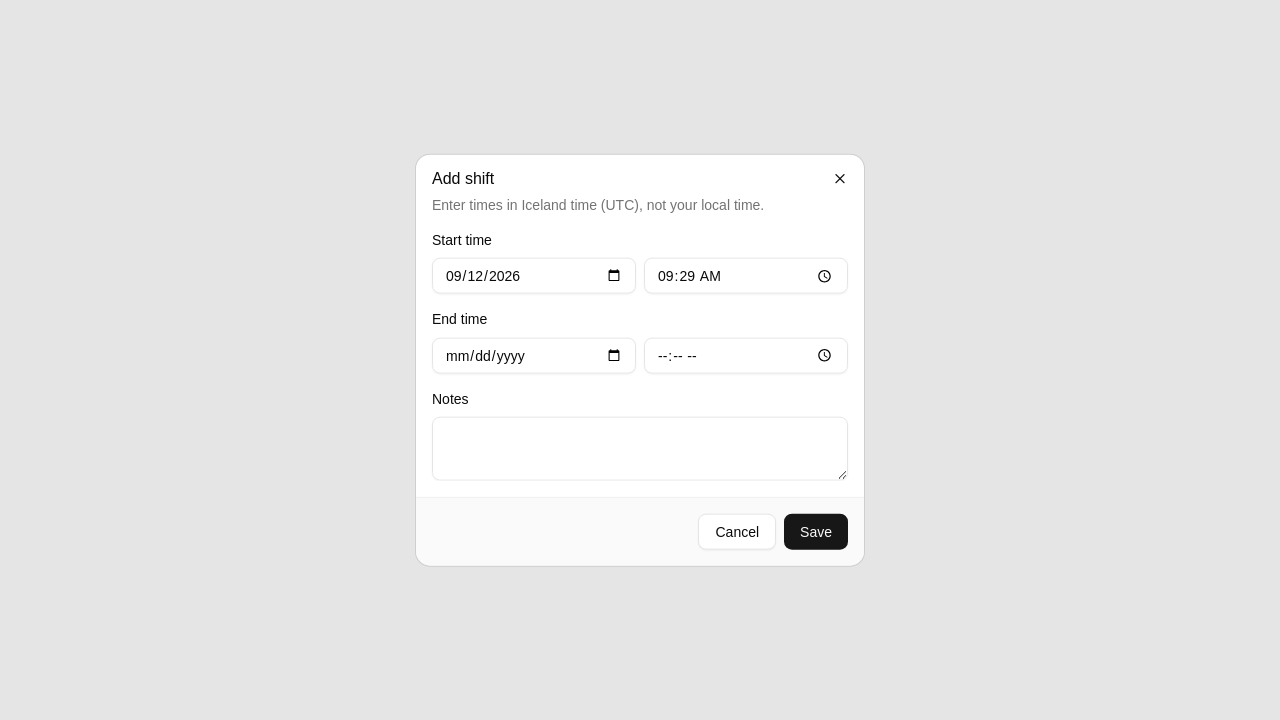
Test case: ShiftForm › shows the shift-screen wording for an open shift, not the clock one
Type "2026-08-04" into the date field named "Start time — date" at (534, 276), box [432,258,636,294]
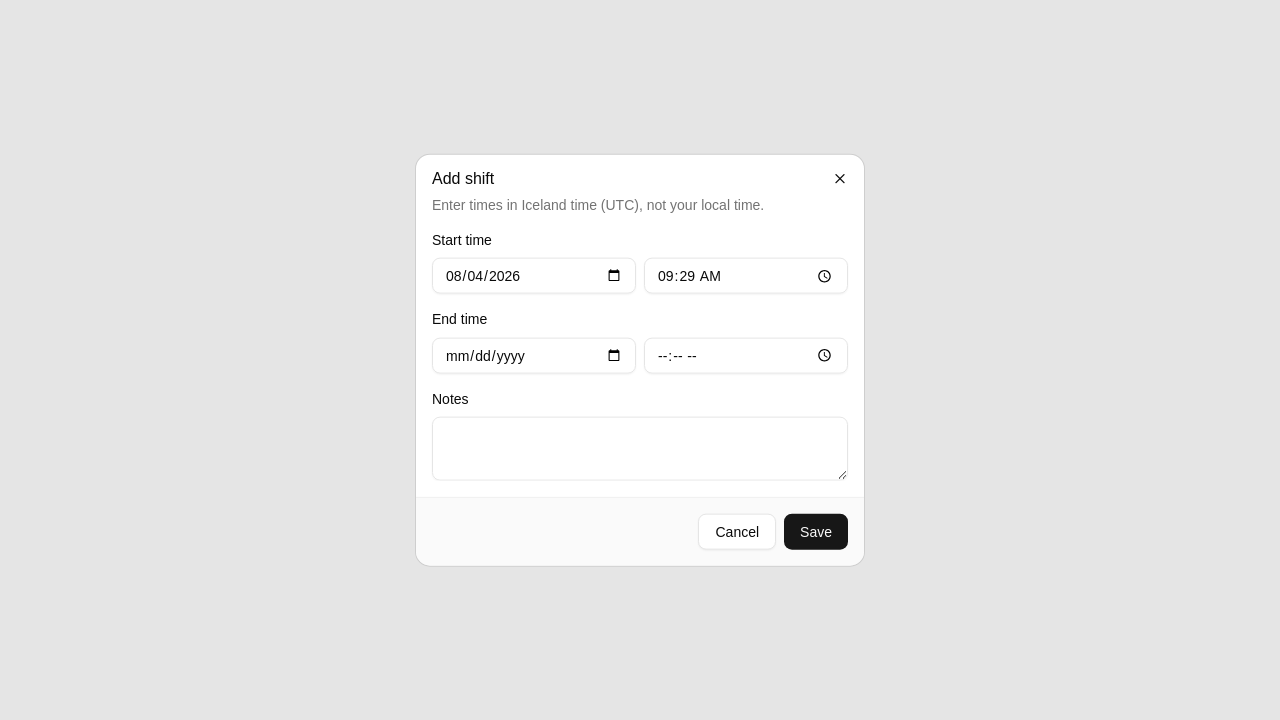
Replace the text in the time field named "Start time — time" with "02:00" at (746, 276), box [644,258,848,294]
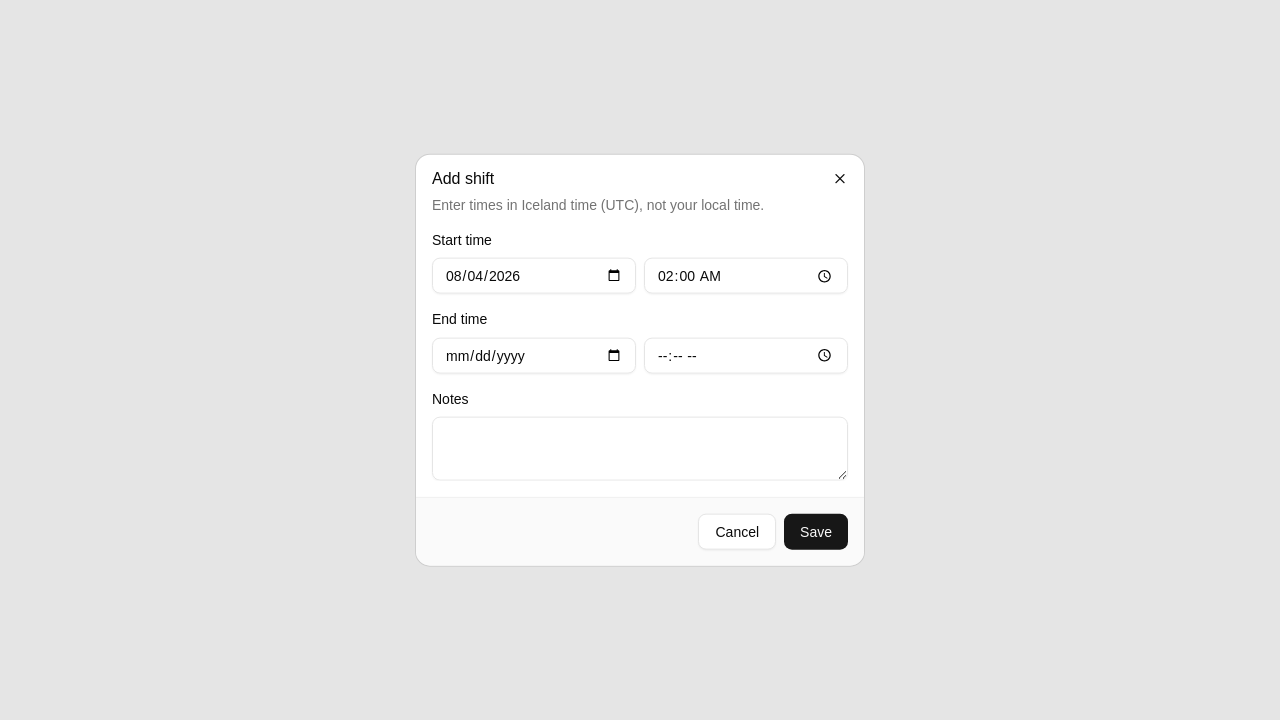
Type "2026-08-04" into the date field named "End time — date" at (534, 355), box [432,337,636,373]
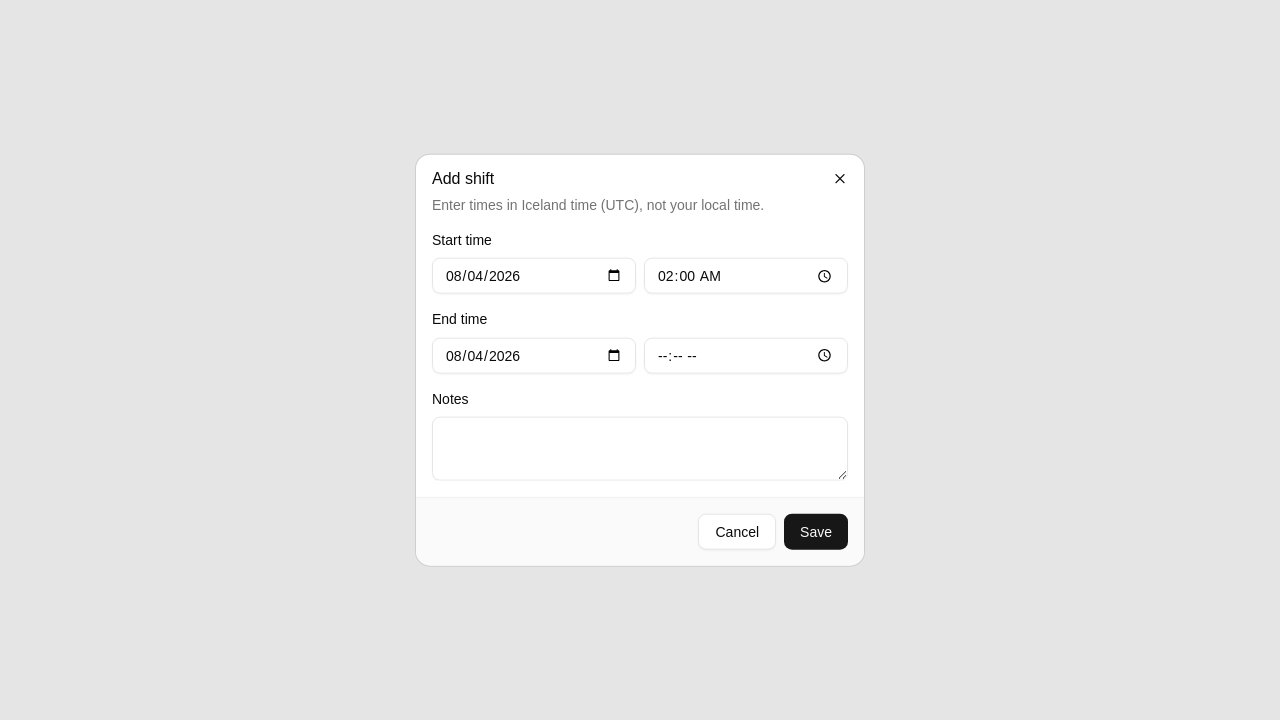
Type "10:00" into the time field named "End time — time" at (746, 355), box [644,337,848,373]
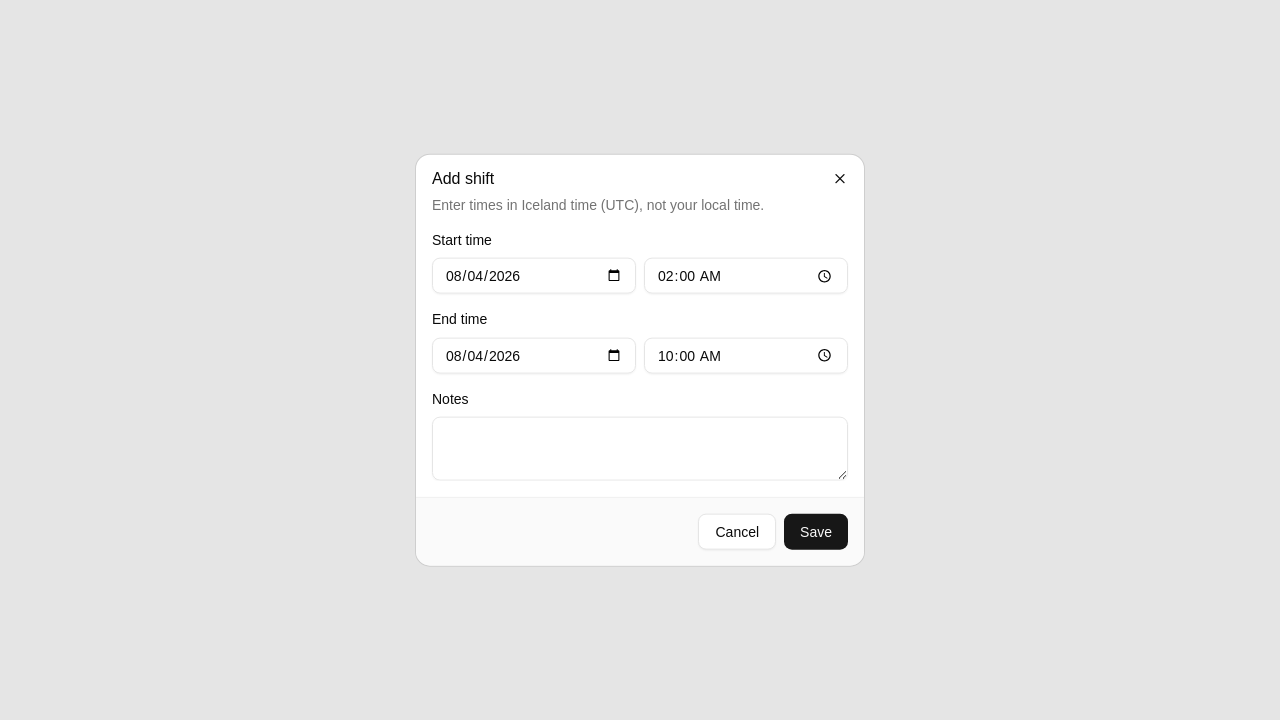
Click the button "Save" at (816, 531), box [784,513,848,549]
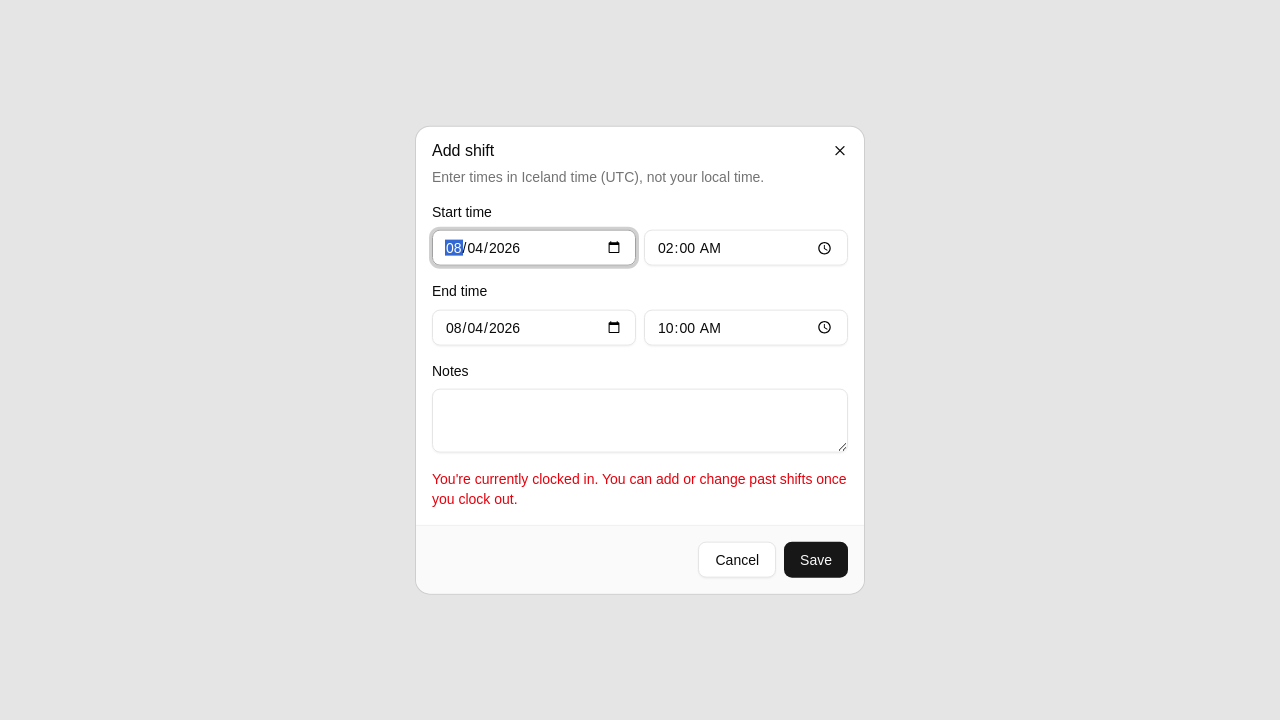
Check: the message shows "You're currently clocked in. You can add or change past shifts once you clock out.", box [432,470,847,506]
